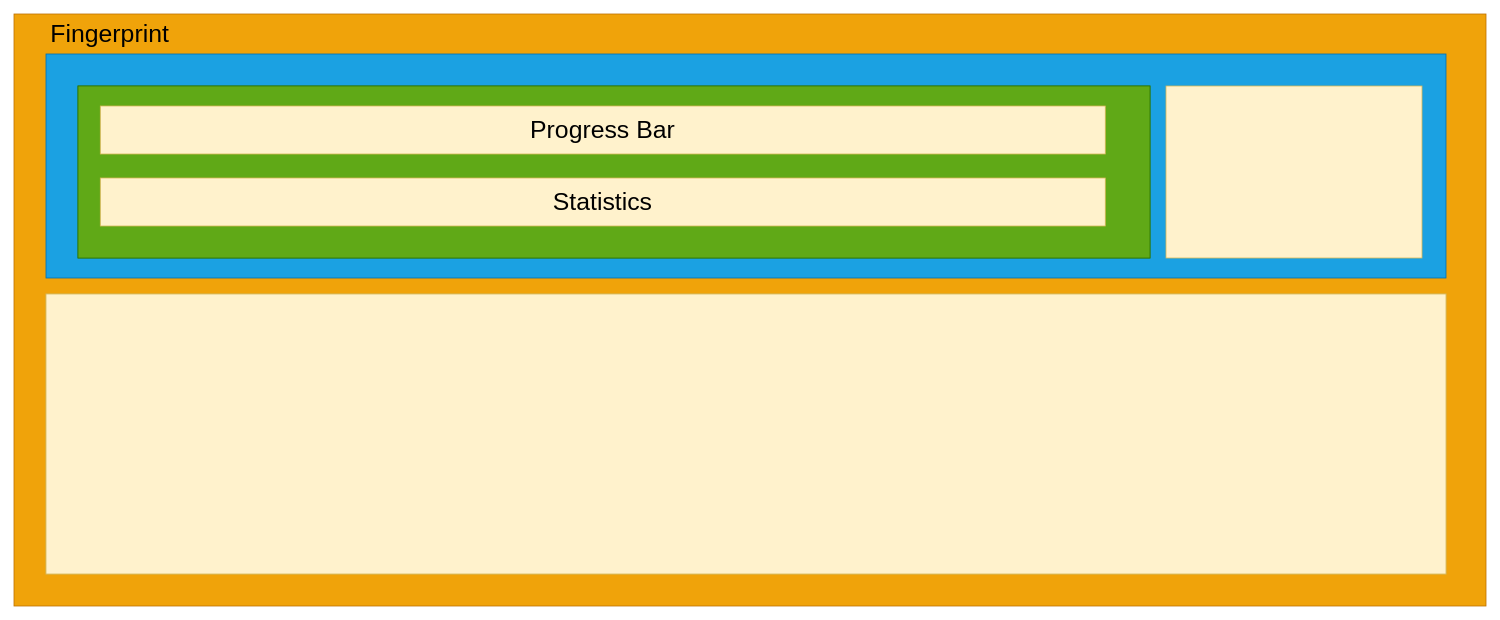
Some shapes in this 1500 by 620 pixel diagram are drawn without their labels. Here are the shapes that lost their labels. From the top down, the centre of each, then its label:
At (x=1293, y=171): "Questionnaire Buttons".
At (x=745, y=433): "Questions".
